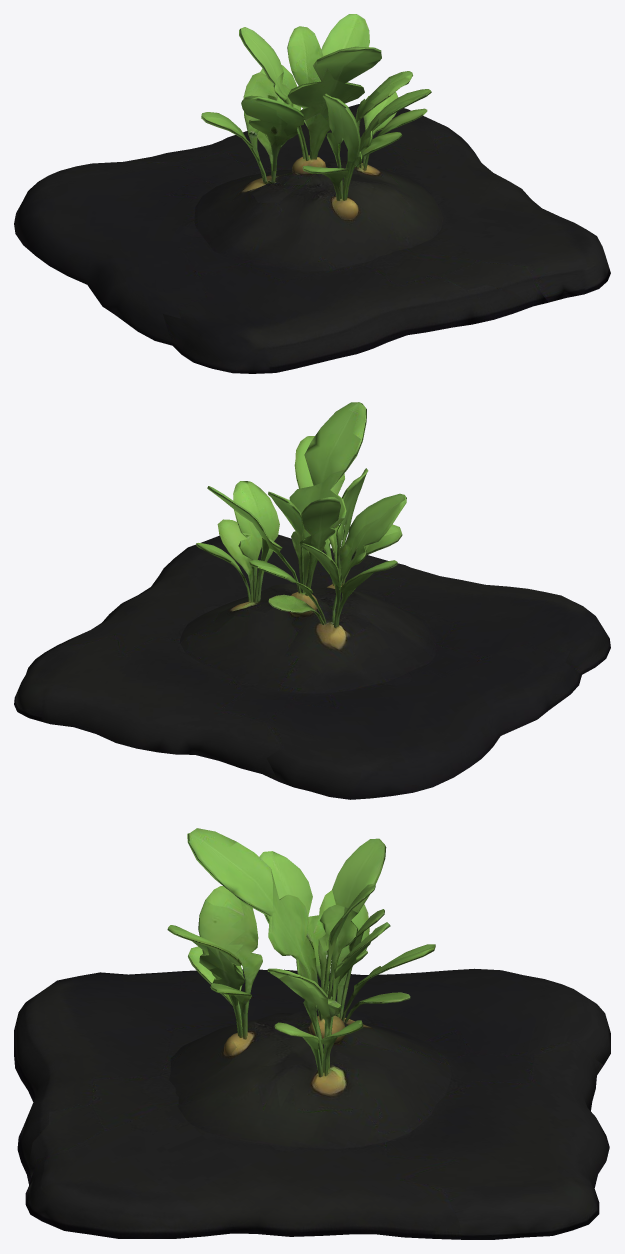
The model's file is earth_apple_stage2.glb.
The picture shows the model from 3 angles, top to bottom: view 1: azimuth 30°, elevation 25°; view 2: azimuth 150°, elevation 25°; view 3: azimuth 270°, elevation 25°; orthographic projection. The views are drawn at different scales.
Visible parts, largest first — view 1: mesh_node; view 2: mesh_node; view 3: mesh_node.
Boxes of the visible parts, x1,y1,x2,y2 form: mesh_node: (14, 14, 610, 373); mesh_node: (14, 402, 610, 799); mesh_node: (14, 828, 610, 1239).
Bounding box in the file's own units: 1 × 0.5293 × 1.
Materials: 1 (1 with a texture image).
